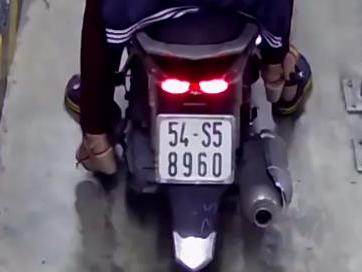num_plate: (154, 113, 233, 184)
